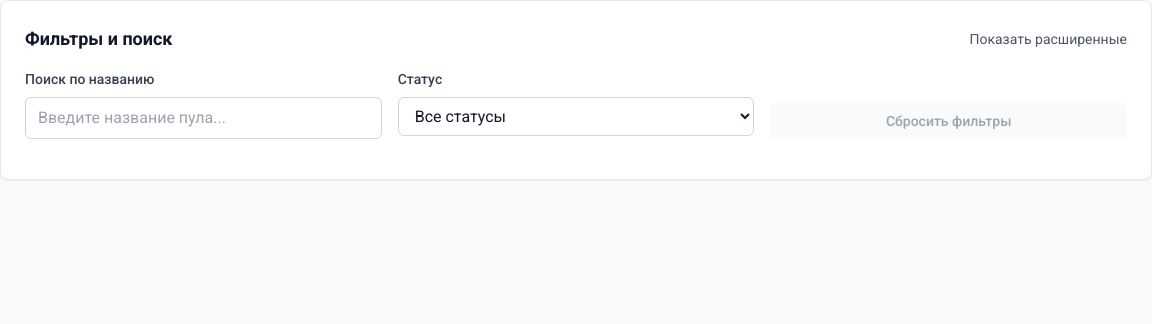
Test: MiningPoolsFilter › содержит все необходимые поля для фильтрации
Expected: the text "Поиск по названию" is shown, [25,71,154,87]
Expected: the text "Статус" is shown, [398,71,442,87]
Показываем расширенные фильтры
What coordinates should you click on to do the following:
click the button "Показать расширенные"
I would click on:
 (1048, 39)
Its box is [970,29,1127,49].
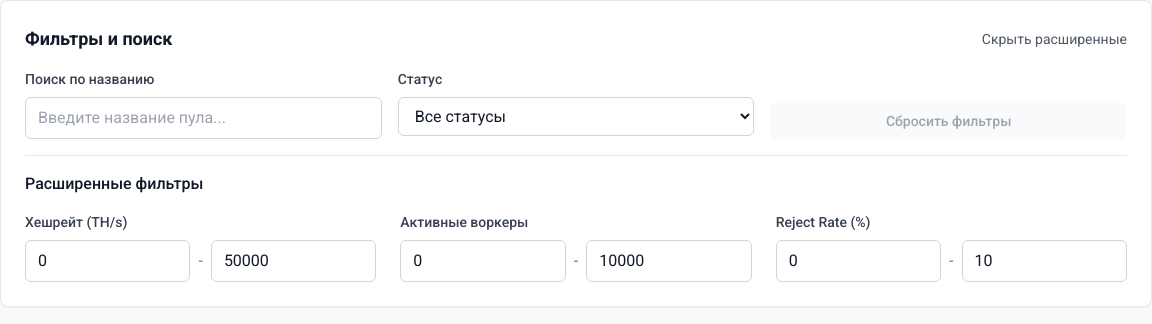
Now the text "Хешрейт (TH/s)" is shown, box [25,214,127,230]
Now the text "Активные воркеры" is shown, box [400,214,528,230]
Now the text "Reject Rate (%)" is shown, box [776,214,870,230]
